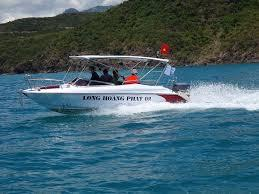Ship: (22, 57, 192, 112)
